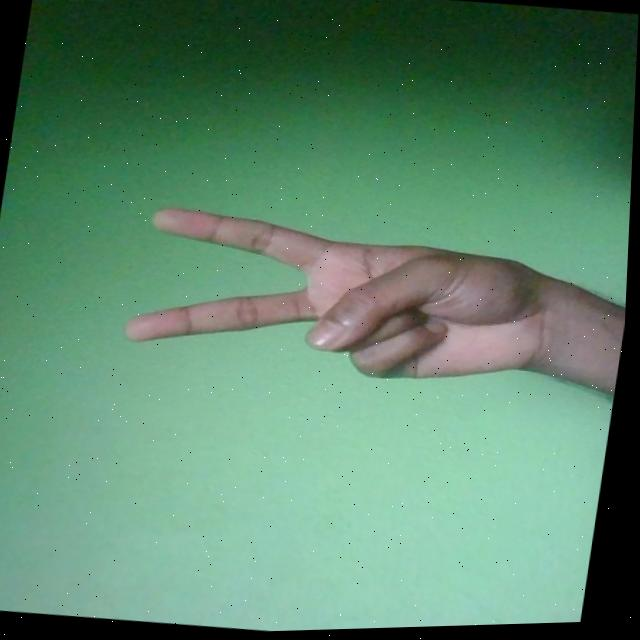Peace: (120, 195, 571, 403)
